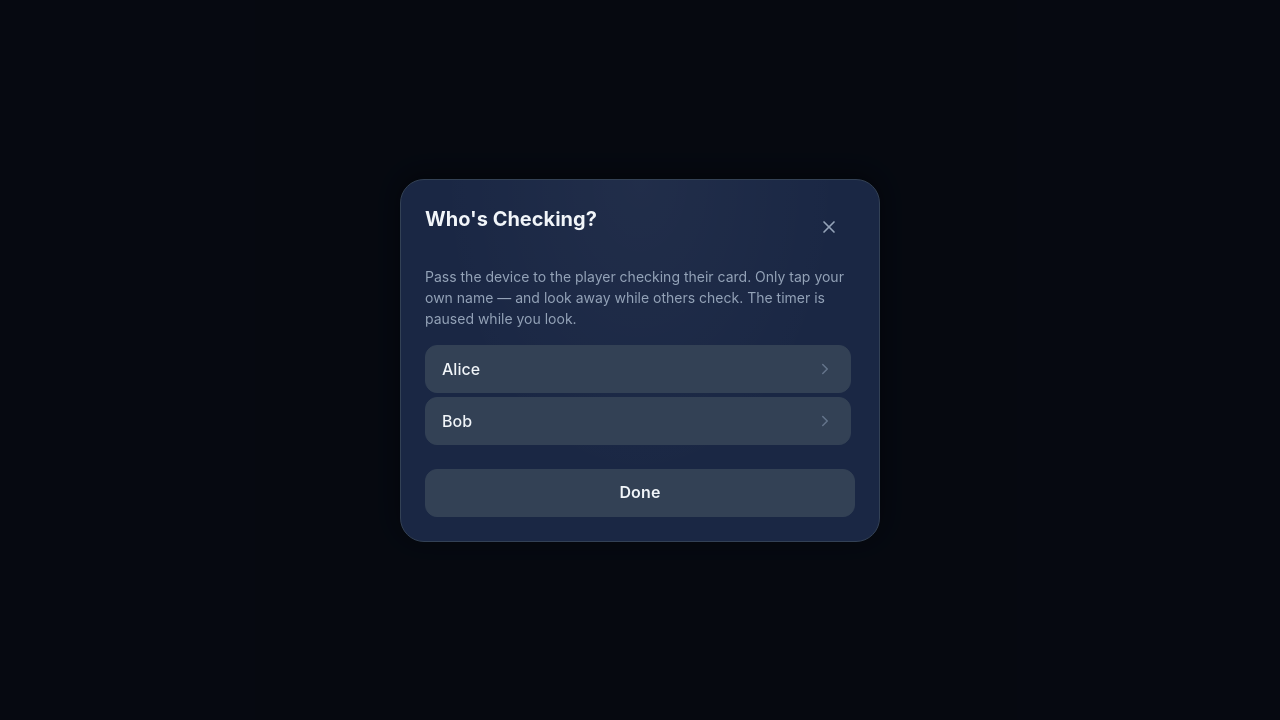
Test: RoleReviewModal › returns to the player list when the card is hidden
The width and height of the screenshot is (1280, 720).
Click the button "Alice": (461, 368) [425,344,851,392]
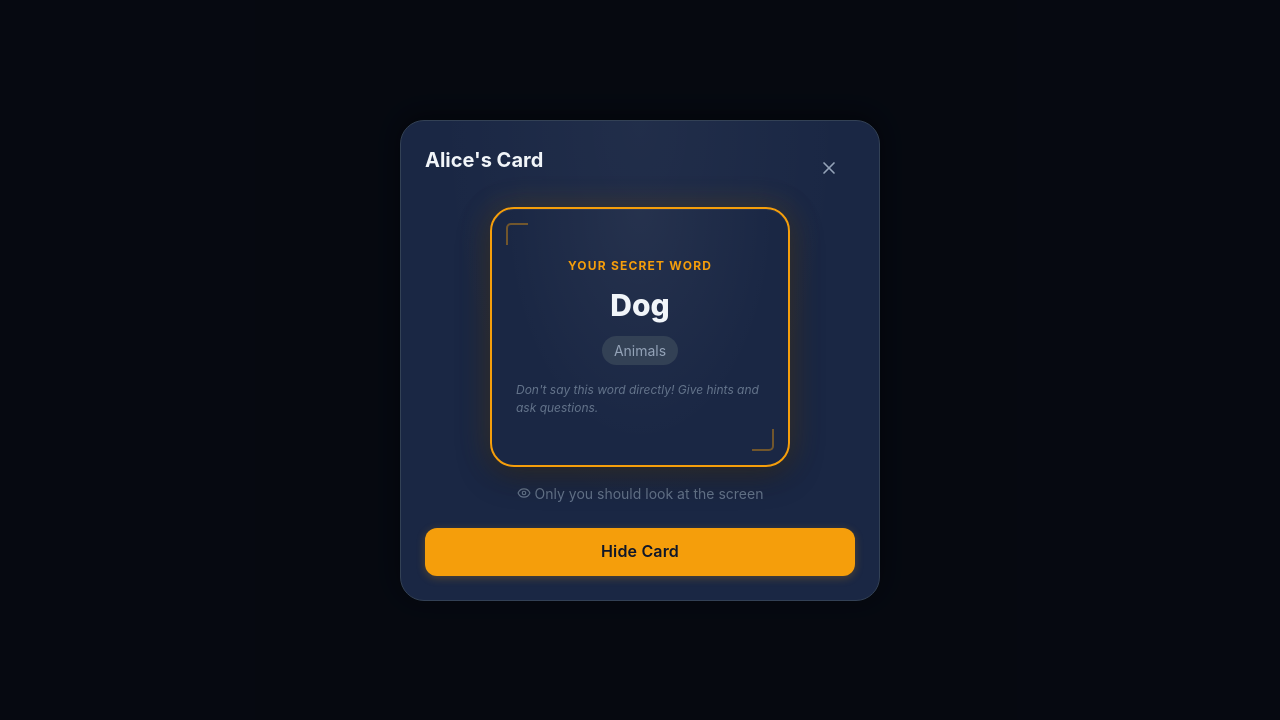
Click the button "Hide Card": (640, 552) [425,528,855,576]
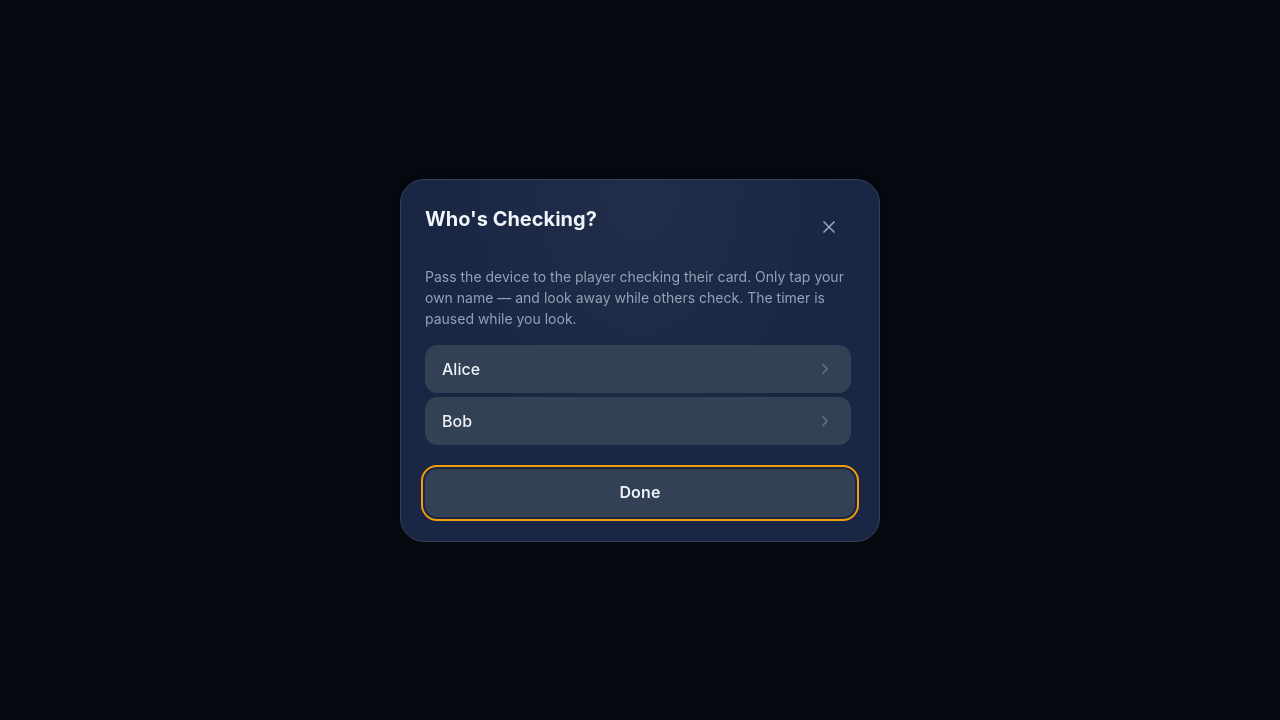
Now the heading "Who's Checking?" is shown, box [425,204,597,234]
Now the text "Dog" is gone
